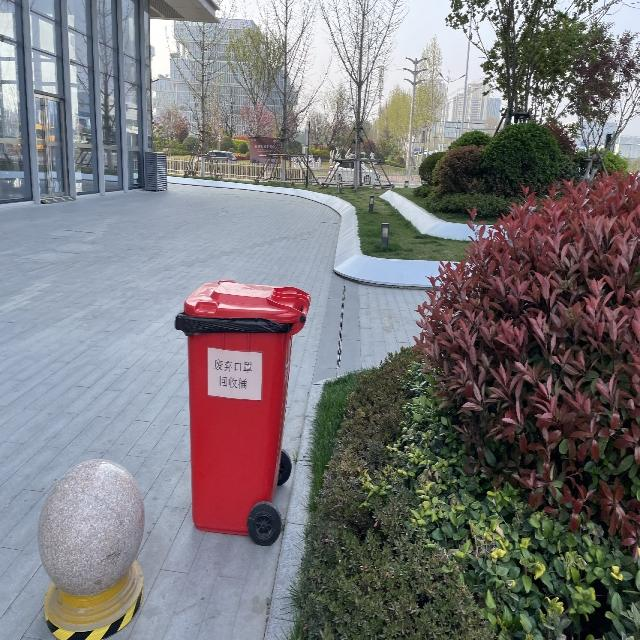garbage_bin: (173, 278, 311, 539)
